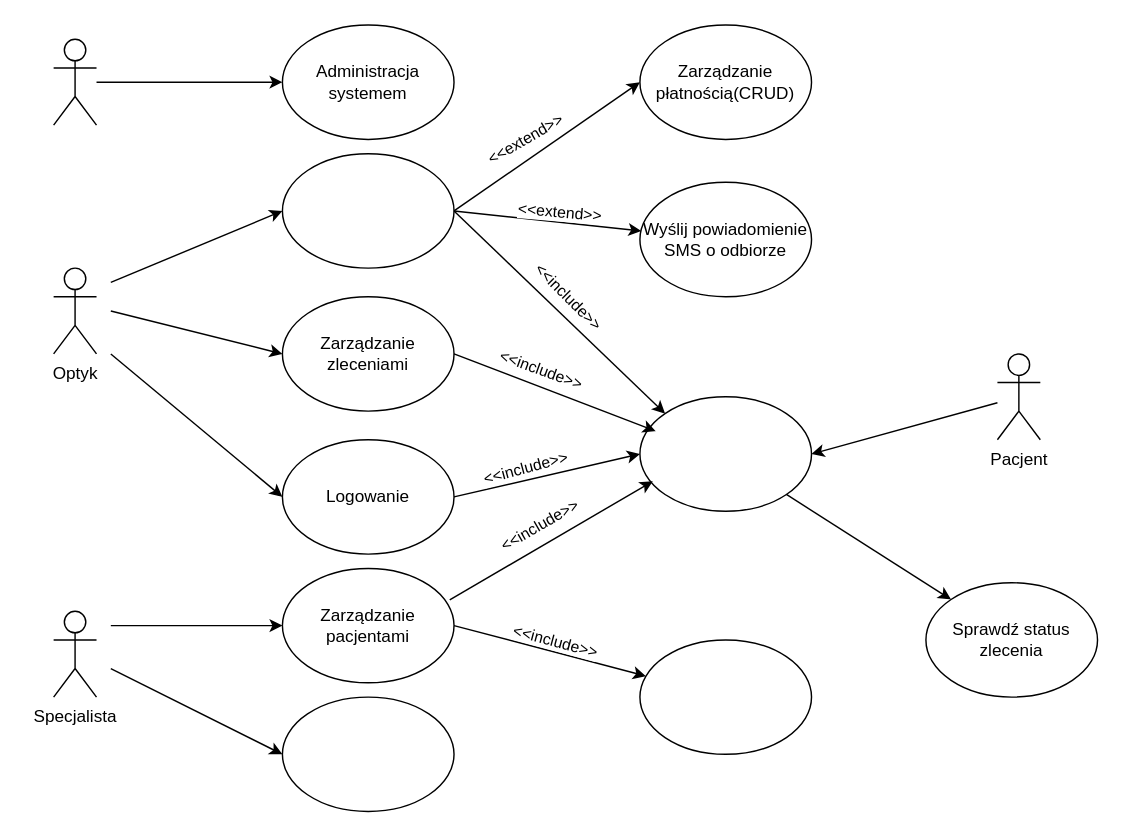
Some shapes in this 1123 by 837 pixel diagram are drawn without their labels. The shapes that lost their labels are listed below. From the top down, each one's centre as x and y in pixels, then its label:
point (74, 81): Administrator
point (367, 210): Zarządzanie magazynem
point (725, 453): Zarządzaj wizytami
point (725, 696): Ewidencja historii badań
point (367, 754): Wystaw receptę
